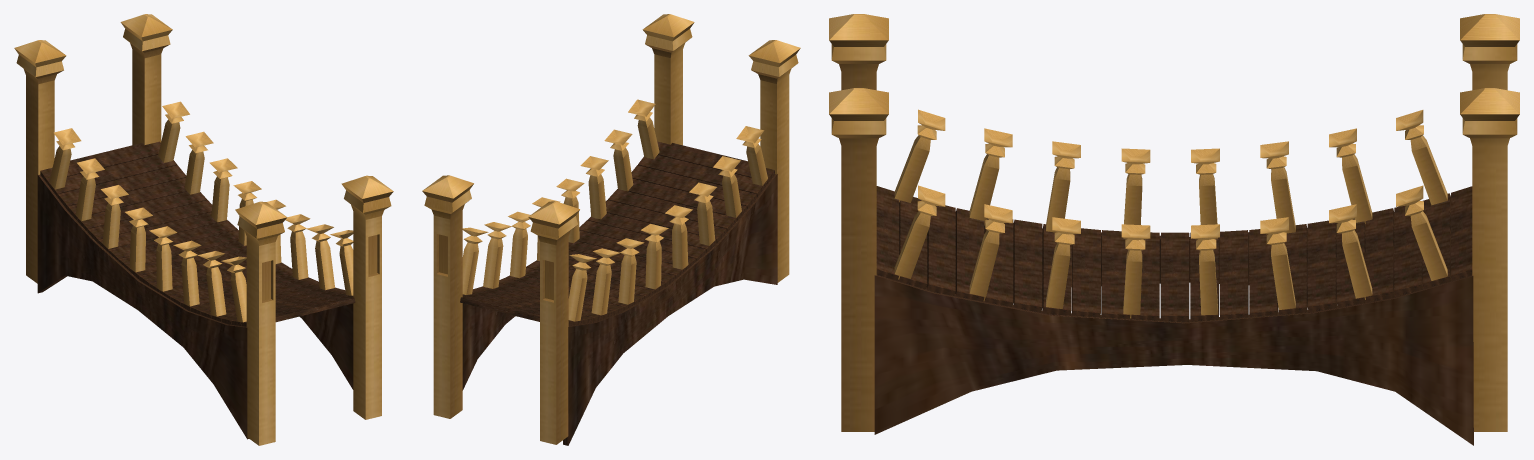
Rendered from BRIDGE.fbx.
3 views of the same model, side by side, from view 1: azimuth 30°, elevation 25°; view 2: azimuth 150°, elevation 25°; view 3: azimuth 270°, elevation 25° (orthographic). The views are drawn at different scales.
Visible parts, largest first — view 1: pCube42, pCube39, pCube38, pCube41, pCube40, pCube43, pCube3, pCube2, pCube1, pCube5, pCube4, pCube6 (+30 smaller); view 2: pCube42, pCube40, pCube41, pCube39, pCube38, pCube43, pCube20, pCube19, pCube17, pCube21, pCube18, pCube16 (+30 smaller); view 3: pCube43, pCube40, pCube38, pCube39, pCube41, pCube11, pCube16, pCube6, pCube9, pCube4, pCube14, pCube19 (+30 smaller).
Boxes of the visible parts, x1,y1,x2,y2 form: pCube42: (37, 174, 248, 439); pCube39: (235, 201, 287, 445); pCube38: (341, 175, 393, 419); pCube41: (14, 40, 66, 283); pCube40: (120, 14, 172, 145); pCube43: (299, 303, 353, 389); pCube3: (57, 165, 186, 209); pCube2: (47, 155, 177, 196); pCube1: (40, 141, 160, 183); pCube5: (77, 191, 207, 231); pCube4: (67, 177, 186, 220); pCube6: (88, 200, 212, 242); pCube42: (563, 174, 777, 445); pCube40: (422, 175, 473, 418); pCube41: (528, 201, 579, 444); pCube39: (748, 40, 800, 282); pCube38: (642, 14, 694, 145); pCube43: (462, 303, 515, 390); pCube20: (638, 155, 766, 196); pCube19: (631, 165, 757, 208); pCube17: (608, 189, 736, 231); pCube21: (657, 141, 774, 183); pCube18: (628, 178, 746, 219); pCube16: (605, 200, 726, 242); pCube43: (874, 275, 1473, 445); pCube40: (1460, 88, 1519, 431); pCube38: (829, 88, 888, 431); pCube39: (829, 14, 888, 90); pCube41: (1460, 14, 1519, 90); pCube11: (1160, 232, 1189, 321); pCube16: (1013, 219, 1042, 312); pCube6: (1307, 220, 1336, 312); pCube9: (1219, 230, 1248, 319); pCube4: (1365, 208, 1394, 302); pCube14: (1072, 228, 1100, 317); pCube19: (926, 205, 955, 295).
Size of the model in its own units: 9.22 by 15.71 by 28.02.
Materials: 4 (4 with a texture image).
